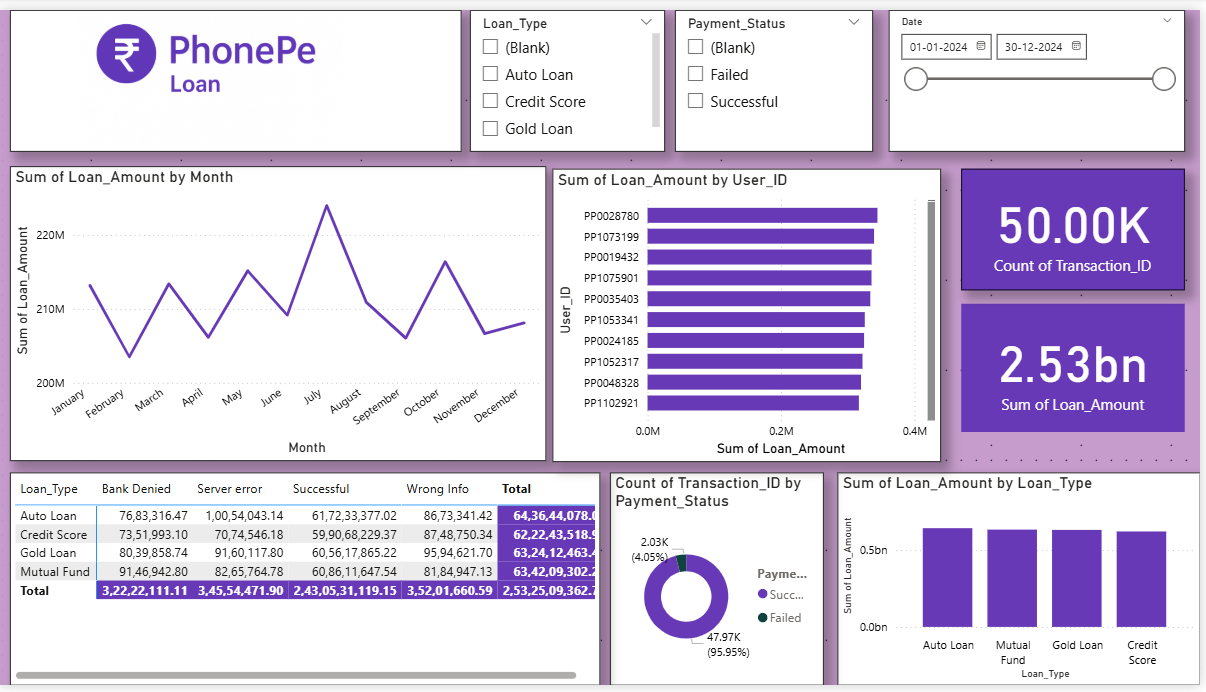

What the dashboard file says about the page in this screenshot:
{"tool":"powerbi","page":{"name":"Loan","canvas":[1280,720],"ordinal":2},"visuals":[{"type":"clusteredColumnChart","fields":{"Category":["Loans.Loan_Type"],"Y":["Sum(Loans.Loan_Amount)"]},"box":[893.1,493.1,386.9,226.9],"z":0},{"type":"lineChart","fields":{"Category":["Loans.Date.Variation.Date Hierarchy.Month"],"Y":["Sum(Loans.Loan_Amount)"]},"box":[10.2,167.3,571.6,314.2],"z":1000},{"type":"donutChart","fields":{"Category":["Loans.Payment_Status"],"Y":["CountNonNull(Loans.Transaction_ID)"]},"box":[650.2,493.1,228.4,226.9],"z":2000},{"type":"pivotTable","fields":{"Rows":["Loans.Loan_Type"],"Columns":["Loans.Reason"],"Values":["Sum(Loans.Loan_Amount)"]},"box":[10.2,493.1,629.8,226.9],"z":3000},{"type":"card","fields":{"Values":["Sum(Loans.Loan_Amount)"]},"box":[1025.5,312.7,238.5,136.7],"z":4000},{"type":"card","fields":{"Values":["CountNonNull(Loans.Transaction_ID)"]},"box":[1025.5,168.7,238.5,129.5],"z":5000},{"type":"barChart","fields":{"Category":["Loans.User_ID"],"Y":["Sum(Loans.Loan_Amount)"]},"box":[589.1,168.7,414.5,312.7],"z":6000},{"type":"image","box":[10.2,0,481.5,151.3],"z":7000},{"type":"slicer","fields":{"Values":["Loans.Loan_Type"]},"box":[501.8,0,208,151.3],"z":8000},{"type":"slicer","fields":{"Values":["Loans.Payment_Status"]},"box":[720,0,210.9,151.3],"z":9000},{"type":"slicer","fields":{"Values":["Loans.Date"]},"box":[948.4,0,315.6,151.3],"z":10000}]}

Visuals, with their boxes in screenshot pixels (x1, y1, x2, y2), scaled from the page's 1280x720 canvas onto the 1206x692 screenshot:
clusteredColumnChart - Loans.Loan_Type x Sum(Loans.Loan_Amount): [left=841, top=474, right=1205, bottom=691]
lineChart - Loans.Date.Variation.Date Hierarchy.Month x Sum(Loans.Loan_Amount): [left=10, top=161, right=548, bottom=463]
donutChart - Loans.Payment_Status x CountNonNull(Loans.Transaction_ID): [left=613, top=474, right=828, bottom=691]
pivotTable - Loans.Loan_Type x Loans.Reason: [left=10, top=474, right=603, bottom=691]
card - Sum(Loans.Loan_Amount): [left=966, top=301, right=1191, bottom=432]
card - CountNonNull(Loans.Transaction_ID): [left=966, top=162, right=1191, bottom=287]
barChart - Loans.User_ID x Sum(Loans.Loan_Amount): [left=555, top=162, right=946, bottom=463]
image: [left=10, top=0, right=463, bottom=145]
slicer - Loans.Loan_Type: [left=473, top=0, right=669, bottom=145]
slicer - Loans.Payment_Status: [left=678, top=0, right=877, bottom=145]
slicer - Loans.Date: [left=894, top=0, right=1191, bottom=145]
